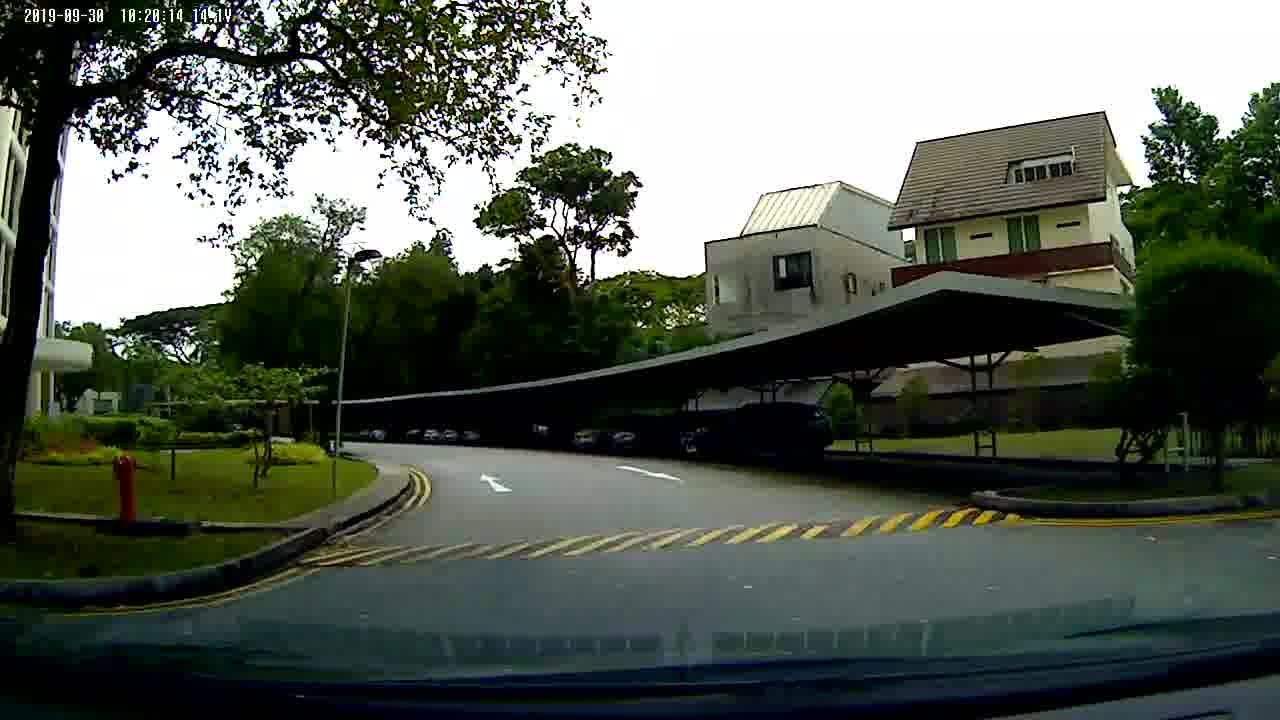car: (681, 401, 838, 470)
